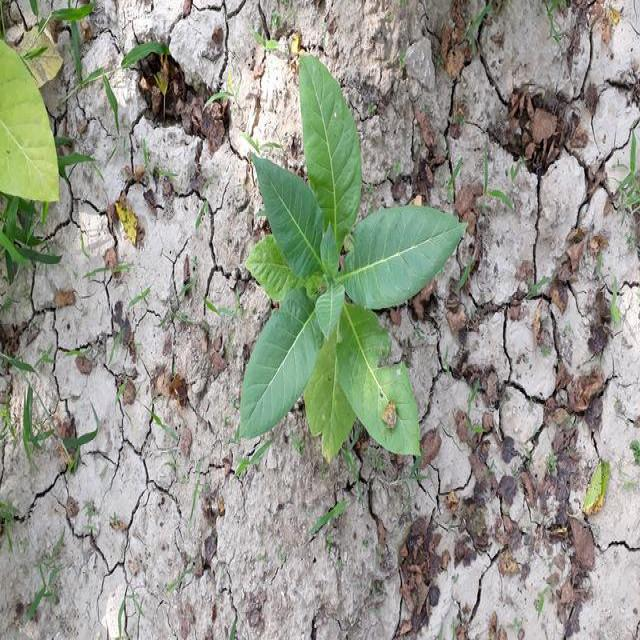crop: (228, 41, 474, 472)
